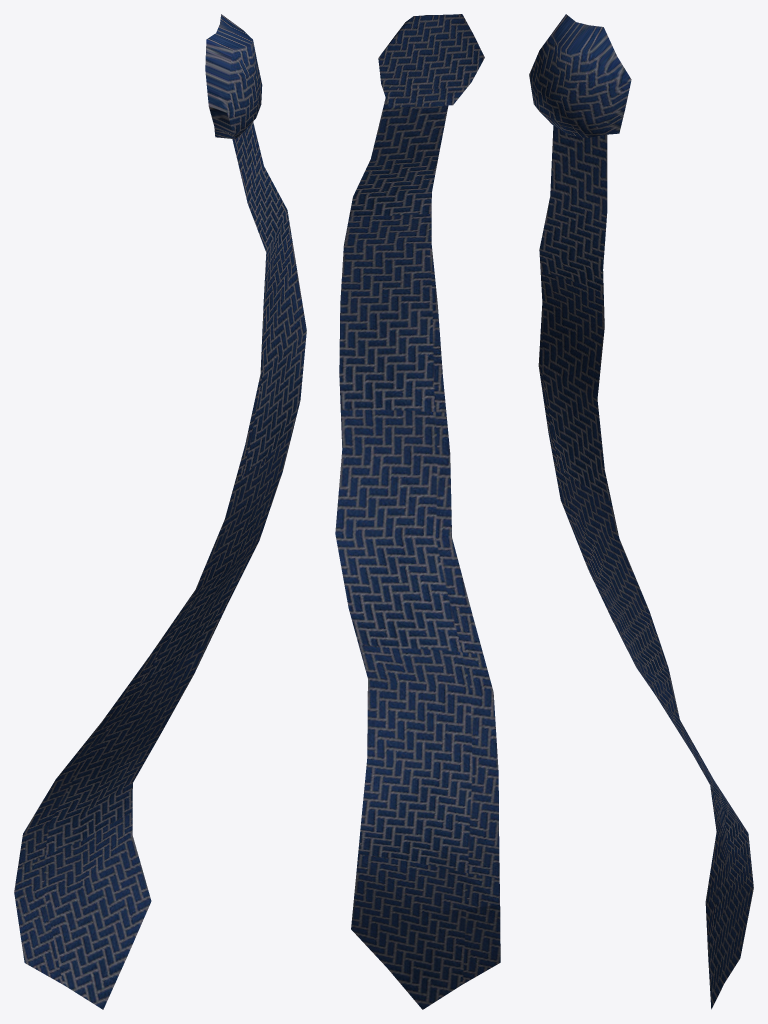
File: Pose-10_SuitTie-3.fbx
3 views of the same model, side by side, from view 1: azimuth 30°, elevation 25°; view 2: azimuth 150°, elevation 25°; view 3: azimuth 270°, elevation 25° (orthographic). The views are drawn at different scales.
Parts seen in each view (by area): view 1: Pose-10_SuitTie-3; view 2: Pose-10_SuitTie-3; view 3: Pose-10_SuitTie-3.
Boxes of the visible parts, x1,y1,x2,y2 form: Pose-10_SuitTie-3: [14, 14, 306, 1009]; Pose-10_SuitTie-3: [335, 14, 500, 1009]; Pose-10_SuitTie-3: [529, 14, 753, 1009].
Size of the model in its own units: 11.02 by 46.15 by 9.27.
